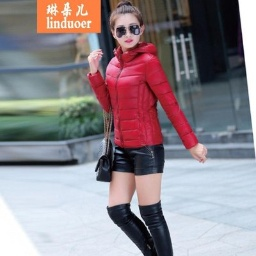face: (108, 3, 145, 48)
